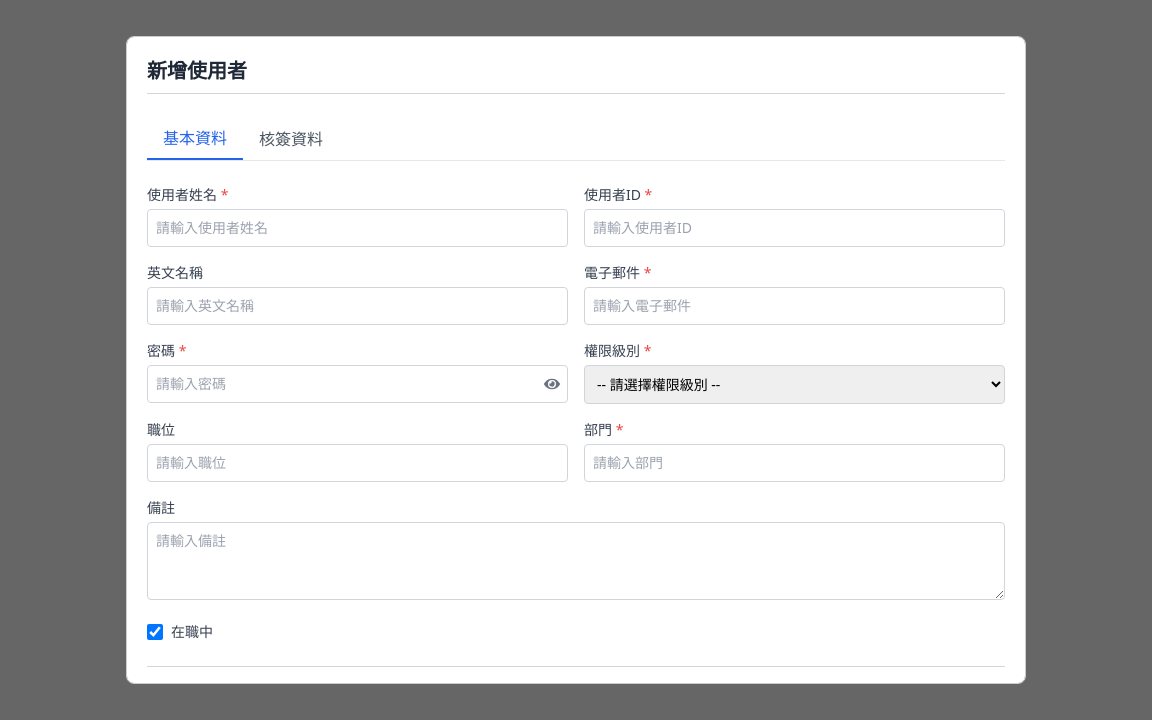
Test: UserModal Component › 表單驗證 › 未填寫使用者ID時應該顯示錯誤
In the field labelled "使用者姓名 *": (358, 228) top-left (147, 209), bottom-right (568, 247), type "測試使用者"
(page scrolled)
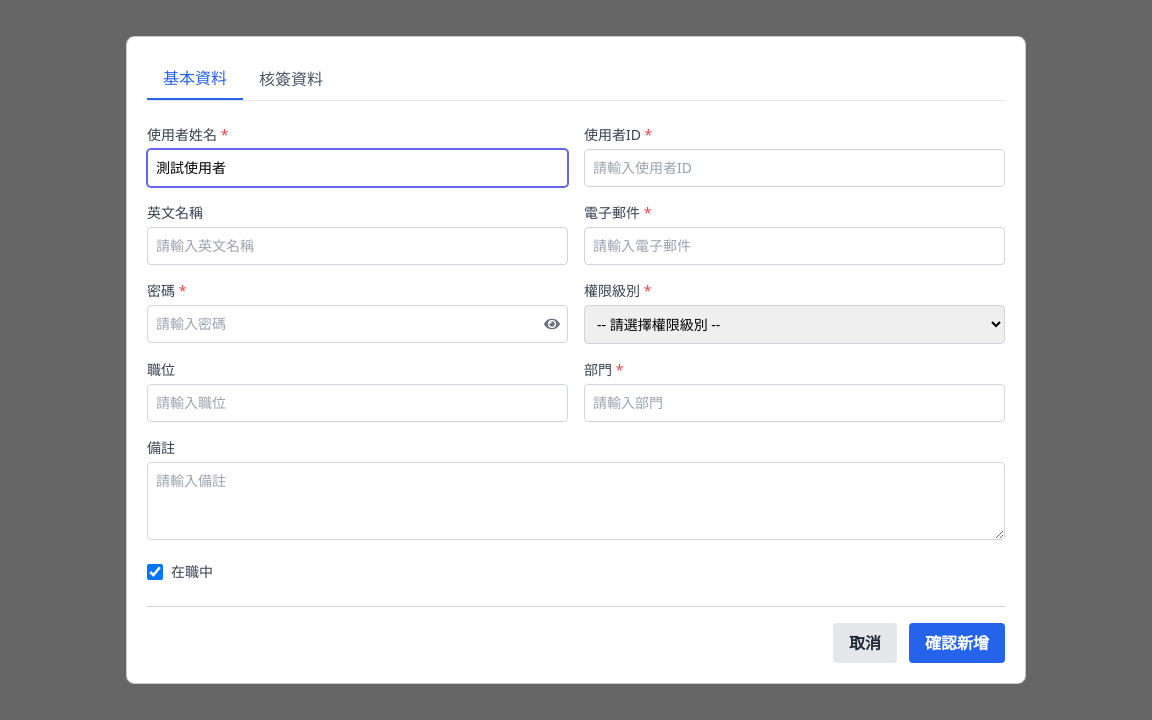
Click the button "確認新增": (957, 643) top-left (909, 623), bottom-right (1005, 663)
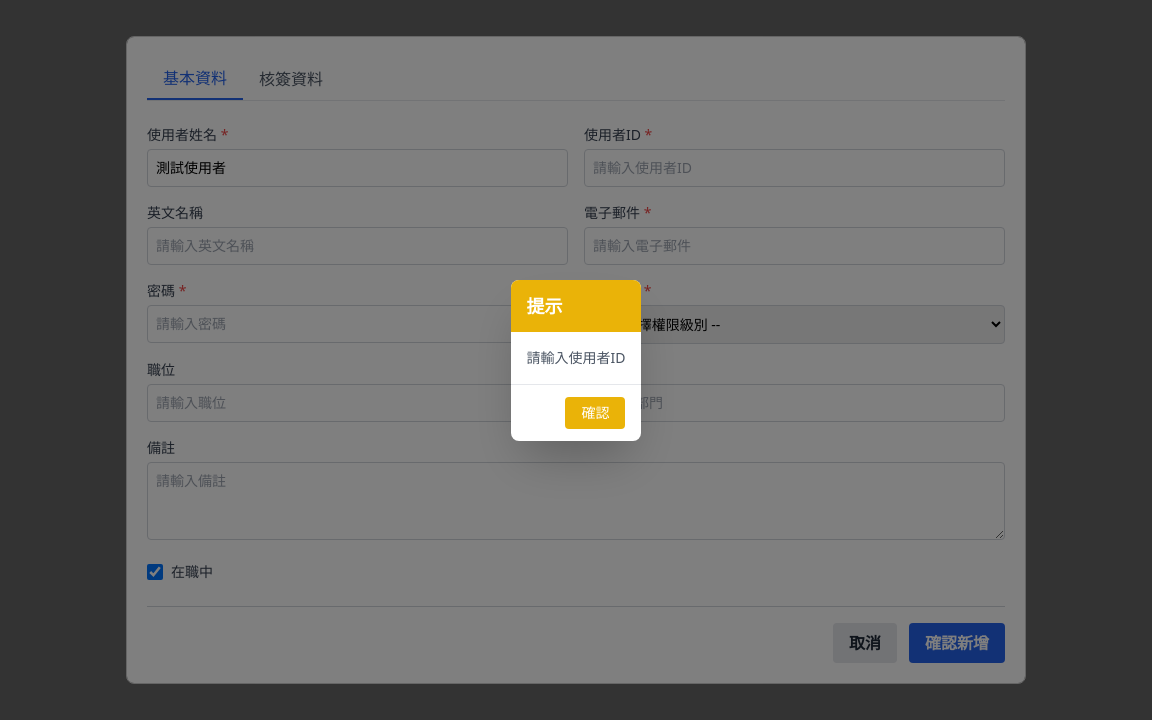
Check: the text "請輸入使用者ID" is shown, box top-left (526, 348), bottom-right (626, 368)
